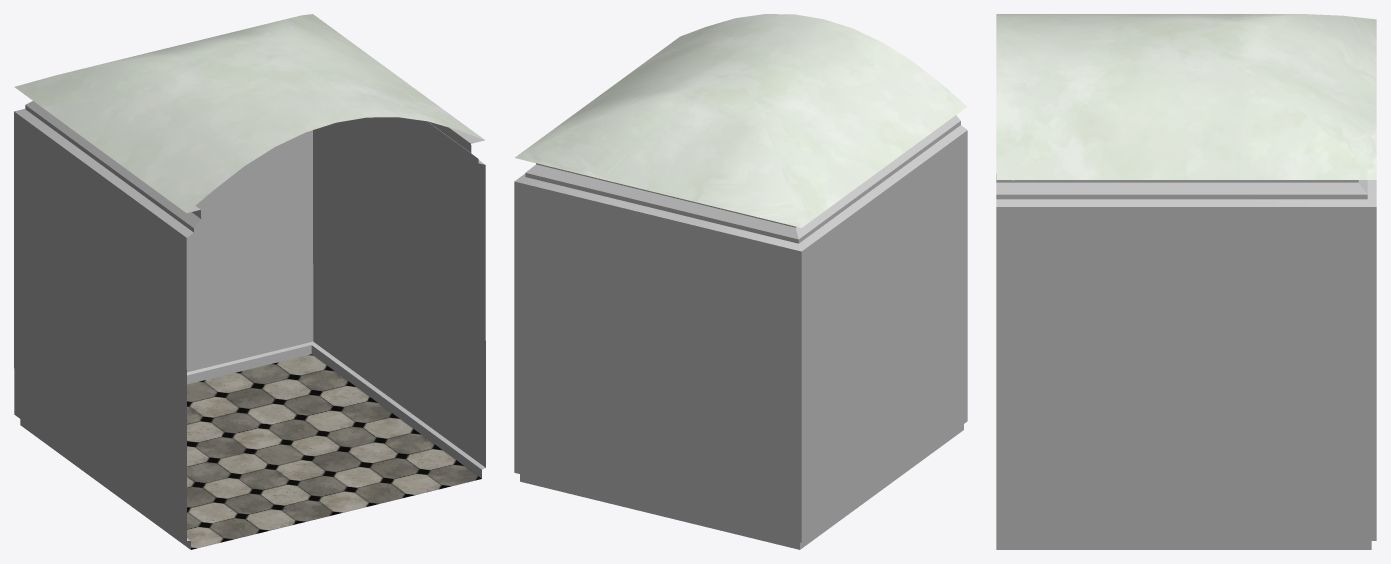
File: deadend.FBX
The picture shows the model from 3 angles, left to right: view 1: azimuth 30°, elevation 25°; view 2: azimuth 150°, elevation 25°; view 3: azimuth 270°, elevation 25°; orthographic projection. The views are drawn at different scales.
Visible parts, largest first — view 1: Dead_end; view 2: Dead_end; view 3: Dead_end.
Boxes of the visible parts, x1,y1,x2,y2 form: Dead_end: (14,14,485,549); Dead_end: (514,14,967,549); Dead_end: (996,14,1376,549).
Bounding box in the file's own units: 160 × 200 × 160.
